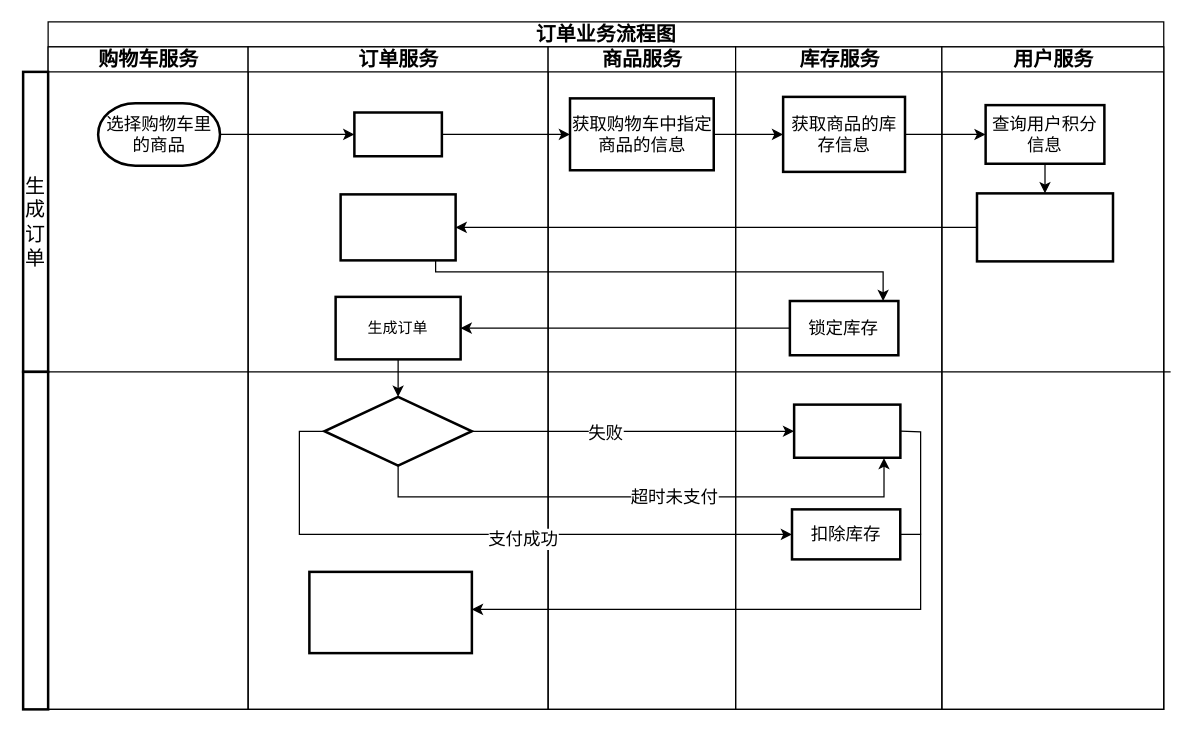
Image size: 1194x733. Some labels were removed from this diagram. The centre of each missing label's shape, as x and y in pixels:
下单: point 397,134
修改订单状态 保存订单信息: point 390,612
支付订单: point 35,540
用户ID+UUID防重令牌: point 397,226
解锁库存: point 846,430
计算运费: point 1044,227
订单支付: point 397,430
